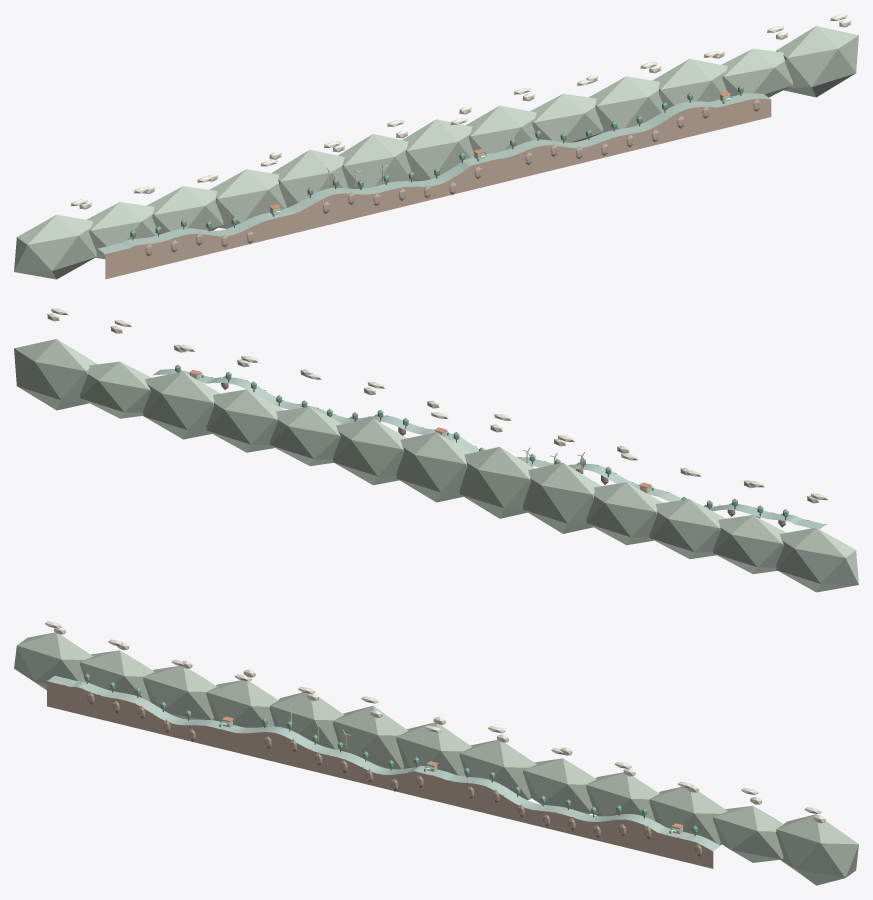
File: route-ridge.glb
3 views of the same model, one above another, from view 1: azimuth 30°, elevation 25°; view 2: azimuth 150°, elevation 25°; view 3: azimuth 330°, elevation 25° (orthographic).
Visible parts, largest first — view 1: Static_Distant hills.001, Static_Terracotta cliffs.001, Static_Sage road.001, Static_Cream clouds.001, Static_Warm rocks.001, Static_Seafoam trees.001; view 2: Static_Distant hills.001, Static_Sage road.001, Static_Cream clouds.001, Static_Seafoam trees.001; view 3: Static_Distant hills.001, Static_Terracotta cliffs.001, Static_Sage road.001, Static_Cream clouds.001, Static_Warm rocks.001, Static_Seafoam trees.001.
Boxes of the visible parts, x1,y1,x2,y2 form: Static_Distant hills.001: [14, 26, 858, 279]; Static_Terracotta cliffs.001: [105, 98, 771, 279]; Static_Sage road.001: [98, 93, 770, 253]; Static_Cream clouds.001: [70, 14, 851, 209]; Static_Warm rocks.001: [145, 98, 760, 256]; Static_Seafoam trees.001: [130, 85, 743, 237]; Static_Distant hills.001: [14, 339, 858, 592]; Static_Sage road.001: [153, 369, 824, 529]; Static_Cream clouds.001: [47, 308, 827, 503]; Static_Seafoam trees.001: [175, 365, 788, 517]; Static_Distant hills.001: [14, 632, 858, 885]; Static_Terracotta cliffs.001: [47, 681, 713, 868]; Static_Sage road.001: [48, 675, 720, 851]; Static_Cream clouds.001: [45, 621, 825, 823]; Static_Warm rocks.001: [87, 691, 702, 856]; Static_Seafoam trees.001: [84, 673, 697, 833].
Bounding box in the file's own units: 8677 × 919 × 683.
